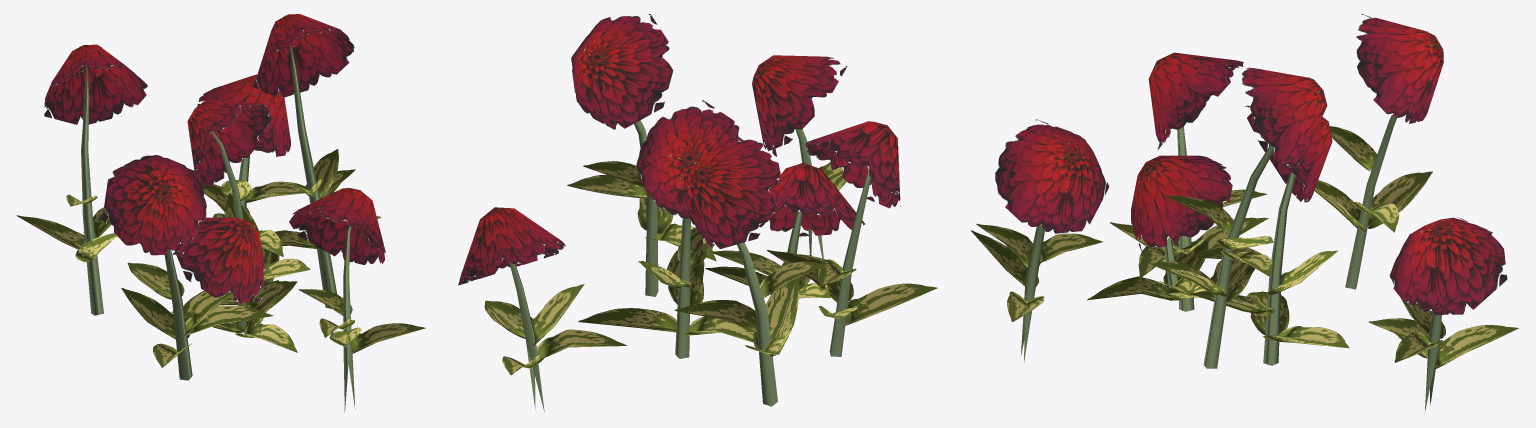
3 renders of one model, left to right at view 1: azimuth 30°, elevation 25°; view 2: azimuth 150°, elevation 25°; view 3: azimuth 270°, elevation 25°, orthographic. The views are drawn at different scales.
Visible parts, largest first — view 1: b587a8c1; view 2: b587a8c1; view 3: b587a8c1.
Part boxes in pixels (box(x1,y1,x2,y2)): b587a8c1: box(16, 14, 425, 412); b587a8c1: box(458, 14, 937, 412); b587a8c1: box(971, 14, 1518, 413).
Bounding box in the file's own units: 0.119 × 0.1157 × 0.1717.
3 materials, 2 textured.
